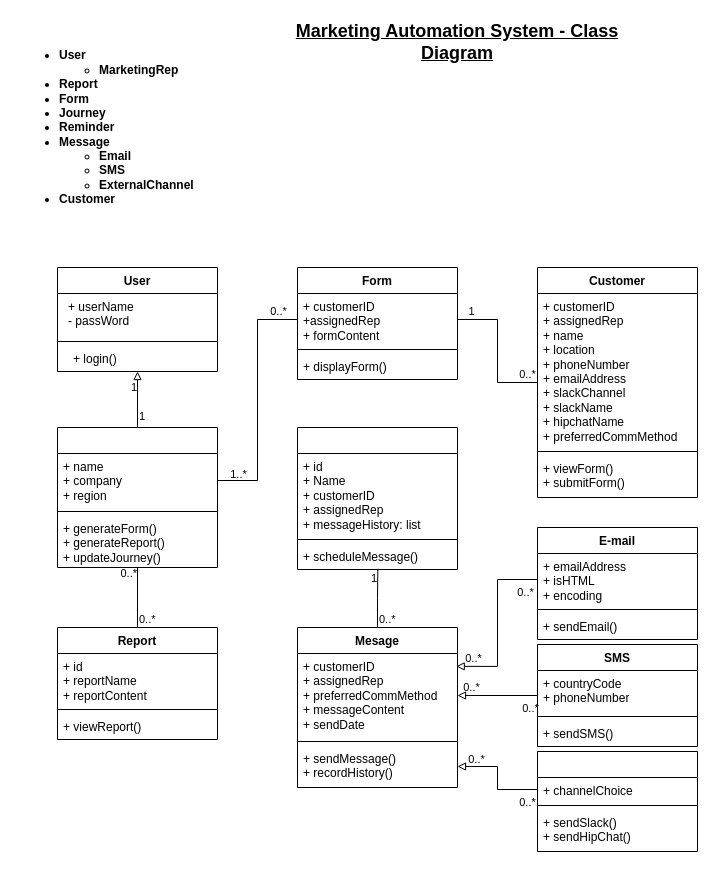
Image size: 715x872. Some labels were removed from this diagram. The box of each missing label's shape, as (x1, y1, x2, y2) in pixels:
ExternalChannel: (536, 750, 698, 852)
Journey: (296, 426, 458, 570)
MarketingRep: (56, 426, 218, 568)
